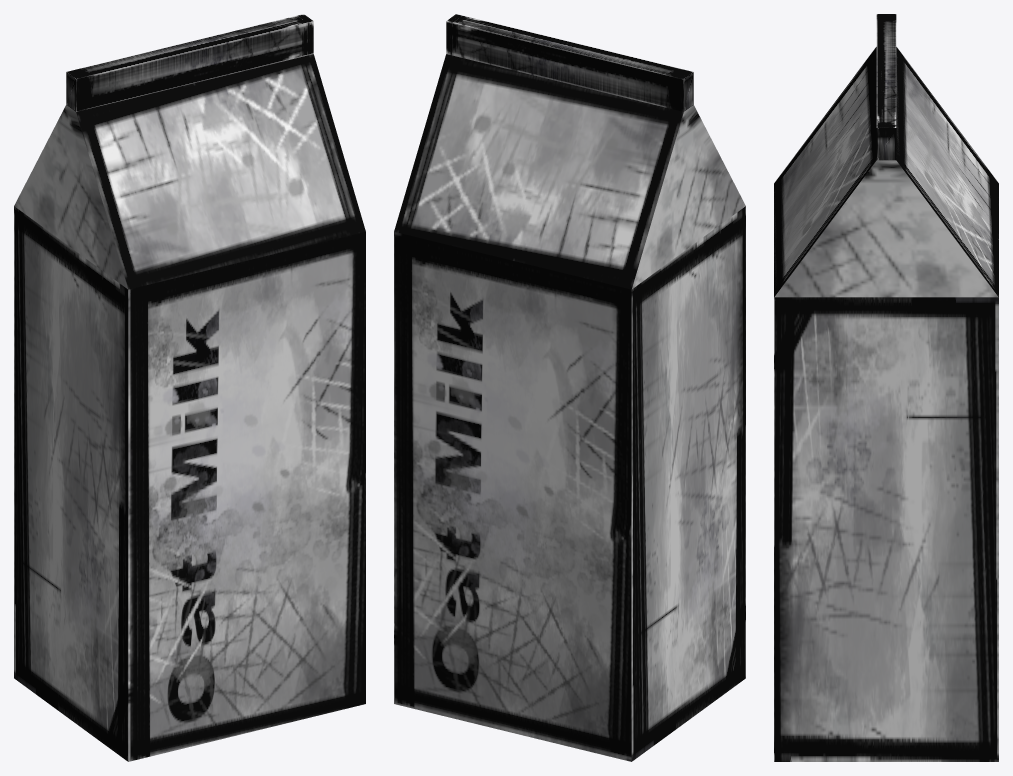
The model's file is oat_milk.glb.
3 views of the same model, side by side, from view 1: azimuth 30°, elevation 25°; view 2: azimuth 150°, elevation 25°; view 3: azimuth 270°, elevation 25° (orthographic).
Visible parts, largest first — view 1: Milk Var 3; view 2: Milk Var 3; view 3: Milk Var 3.
Boxes of the visible parts, x1,y1,x2,y2 form: Milk Var 3: (14, 14, 365, 761); Milk Var 3: (394, 14, 745, 761); Milk Var 3: (774, 14, 998, 761).
Size of the model in its own units: 0.1444 by 0.3743 by 0.1203.
Materials: 1 (1 with a texture image).
